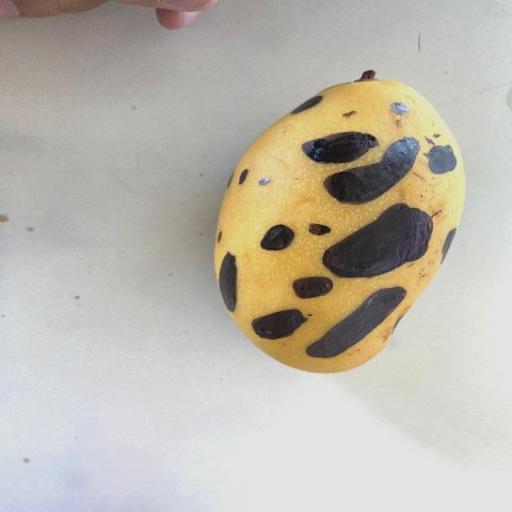mango-overripe: (196, 47, 471, 388)
